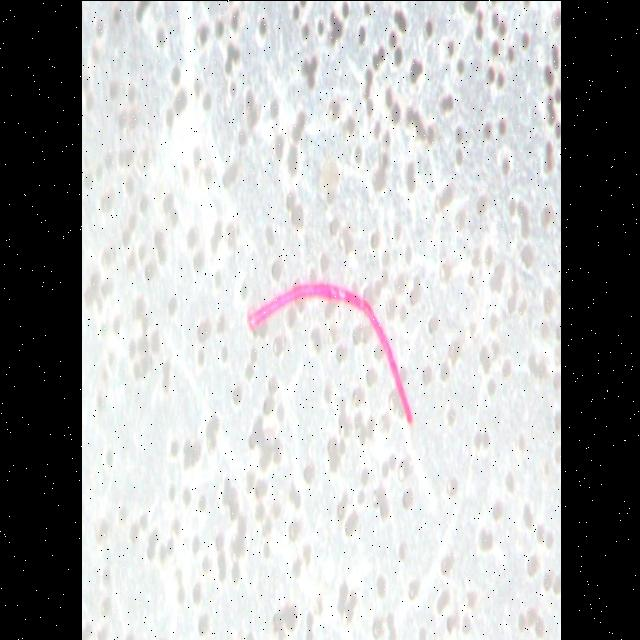Fibre: (244, 276, 413, 426)
